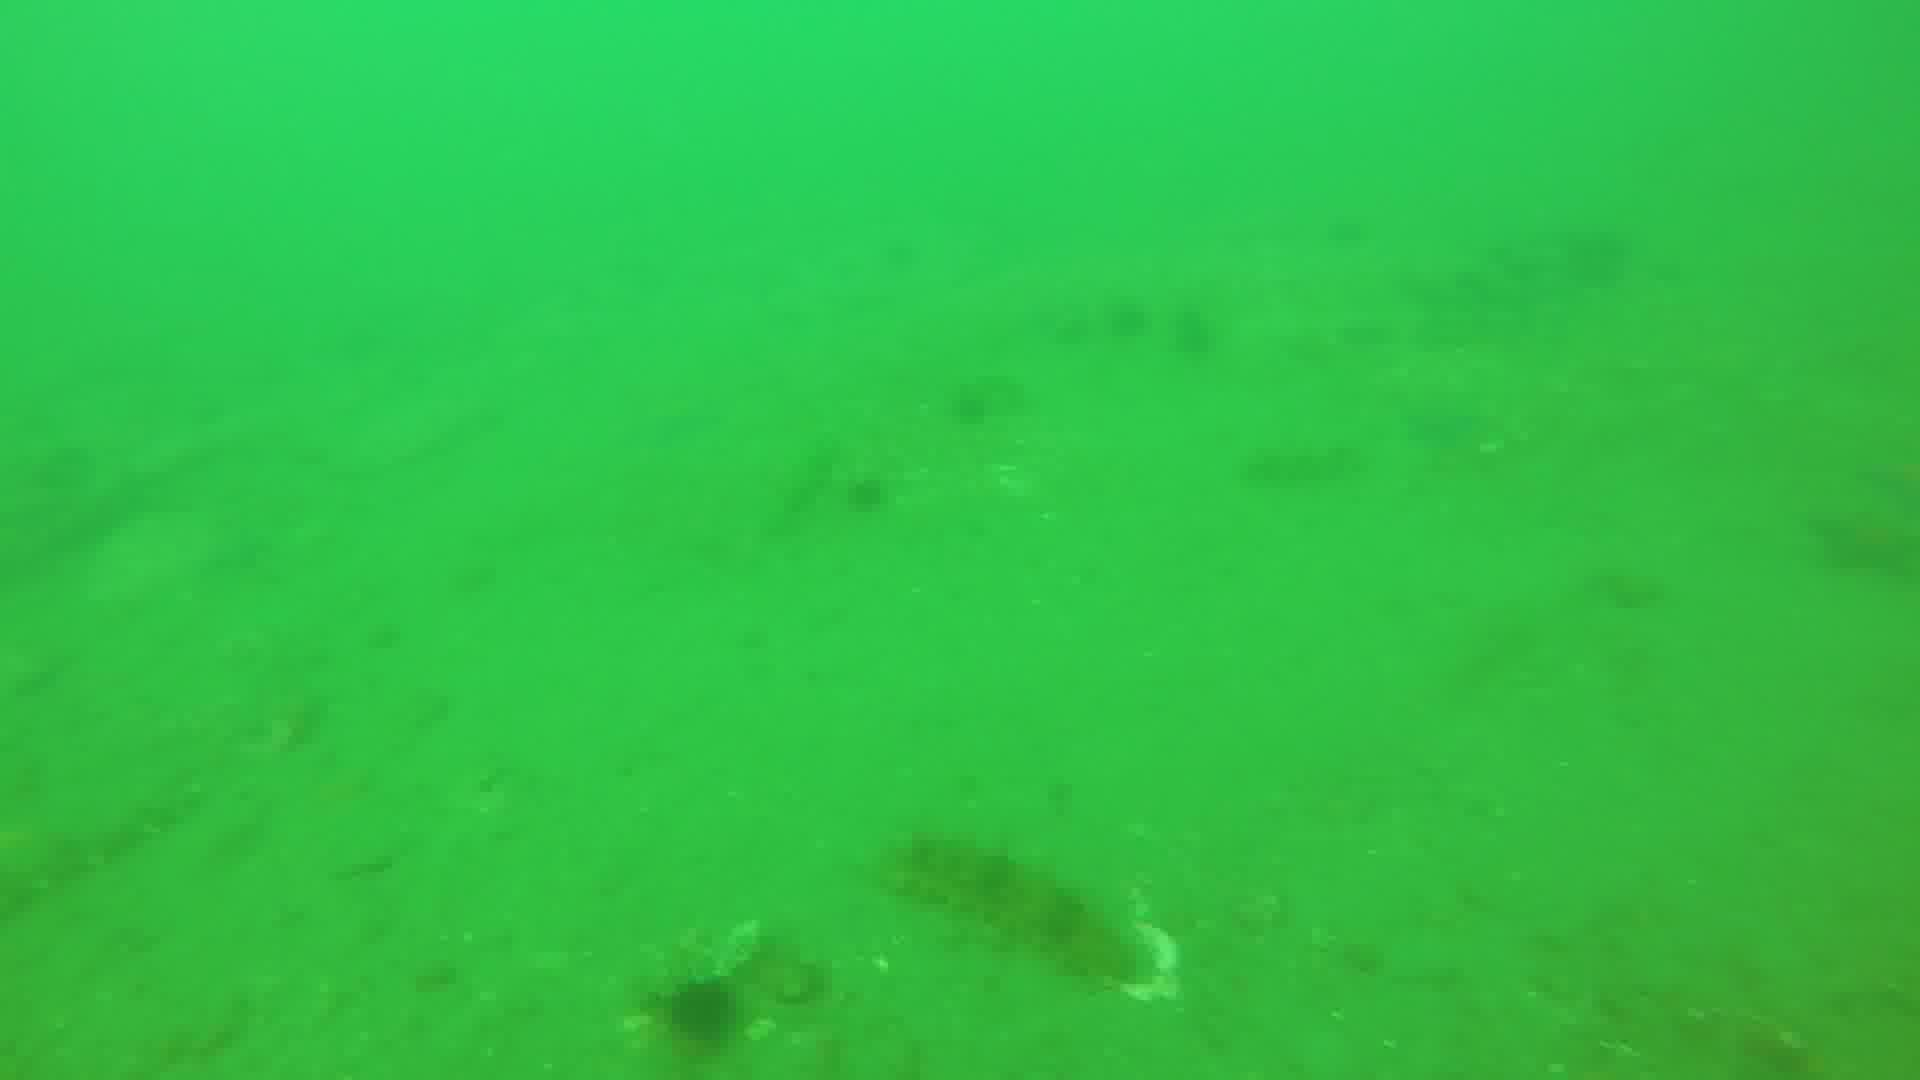echinus: (654, 975, 758, 1046)
holothurian: (872, 840, 1149, 990), (1, 781, 167, 916), (1230, 431, 1371, 487)
starfish: (1807, 505, 1920, 585), (1403, 394, 1497, 447)
